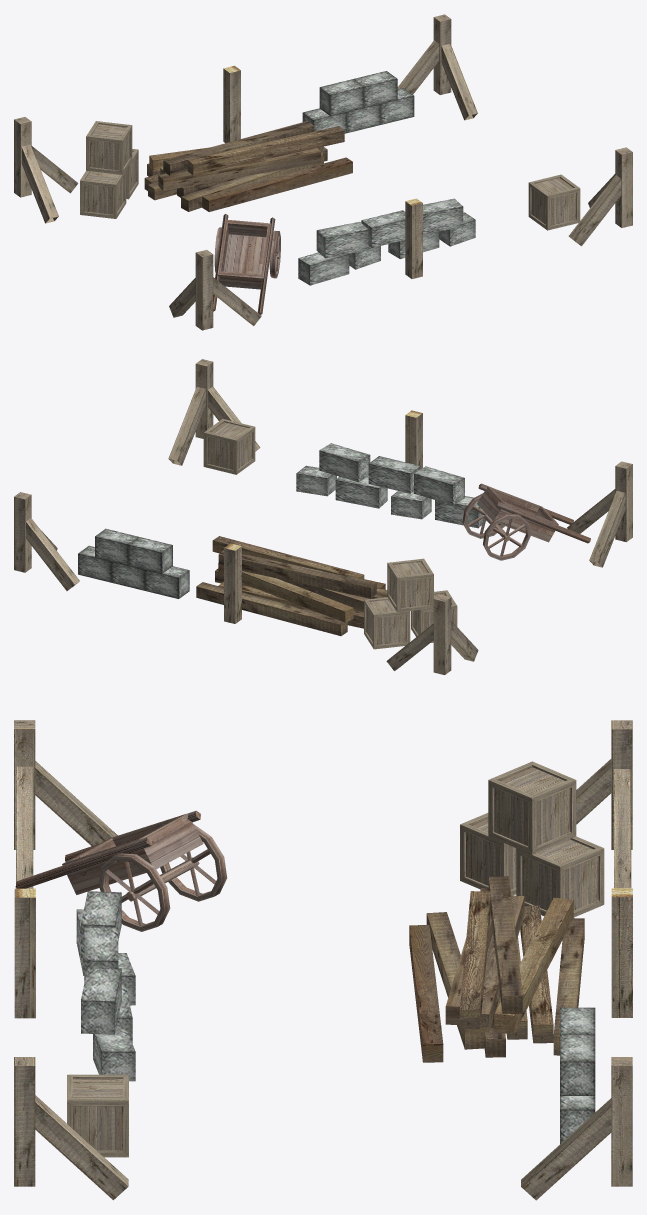
File: fndn_4x3.glb
3 views of the same model, one above another, from view 1: azimuth 30°, elevation 25°; view 2: azimuth 150°, elevation 25°; view 3: azimuth 270°, elevation 25° (orthographic). The views are drawn at different scales.
Parts seen in each view (by area): view 1: fndn_4x3_part20, fndn_4x3_part13, fndn_4x3_part14, fndn_4x3_part3, fndn_4x3_part4, fndn_4x3_part1, fndn_4x3_part2, fndn_4x3_part15, fndn_4x3_part17, fndn_4x3_part18, fndn_4x3_part6, fndn_4x3_part5 (+6 smaller); view 2: fndn_4x3_part20, fndn_4x3_part13, fndn_4x3_part14, fndn_4x3_part1, fndn_4x3_part4, fndn_4x3_part2, fndn_4x3_part3, fndn_4x3_part15, fndn_4x3_part17, fndn_4x3_part19, fndn_4x3_part5, fndn_4x3_part12 (+6 smaller); view 3: fndn_4x3_part20, fndn_4x3_part14, fndn_4x3_part13, fndn_4x3_part17, fndn_4x3_part2, fndn_4x3_part1, fndn_4x3_part3, fndn_4x3_part19, fndn_4x3_part4, fndn_4x3_part15, fndn_4x3_part18, fndn_4x3_part6 (+4 smaller).
Boxes of the visible parts, left/top/right/bottom form: fndn_4x3_part20: left=144, top=121, right=352, bottom=211; fndn_4x3_part13: left=298, top=198, right=475, bottom=285; fndn_4x3_part14: left=213, top=214, right=280, bottom=314; fndn_4x3_part3: left=397, top=14, right=477, bottom=120; fndn_4x3_part4: left=14, top=117, right=78, bottom=223; fndn_4x3_part1: left=169, top=250, right=261, bottom=330; fndn_4x3_part2: left=568, top=147, right=632, bottom=246; fndn_4x3_part15: left=528, top=174, right=580, bottom=230; fndn_4x3_part17: left=86, top=121, right=132, bottom=174; fndn_4x3_part18: left=80, top=169, right=126, bottom=218; fndn_4x3_part6: left=405, top=198, right=422, bottom=278; fndn_4x3_part5: left=223, top=65, right=240, bottom=143; fndn_4x3_part20: left=196, top=536, right=387, bottom=635; fndn_4x3_part13: left=296, top=443, right=486, bottom=528; fndn_4x3_part14: left=462, top=483, right=590, bottom=560; fndn_4x3_part1: left=567, top=461, right=632, bottom=567; fndn_4x3_part4: left=386, top=594, right=478, bottom=674; fndn_4x3_part2: left=168, top=359, right=260, bottom=465; fndn_4x3_part3: left=14, top=492, right=79, bottom=590; fndn_4x3_part15: left=203, top=419, right=255, bottom=474; fndn_4x3_part17: left=387, top=558, right=433, bottom=612; fndn_4x3_part19: left=364, top=597, right=410, bottom=649; fndn_4x3_part5: left=224, top=543, right=241, bottom=623; fndn_4x3_part12: left=128, top=537, right=172, bottom=573; fndn_4x3_part20: left=409, top=876, right=584, bottom=1062; fndn_4x3_part14: left=15, top=810, right=227, bottom=931; fndn_4x3_part13: left=76, top=891, right=135, bottom=1081; fndn_4x3_part17: left=488, top=761, right=576, bottom=854; fndn_4x3_part2: left=14, top=1057, right=128, bottom=1200; fndn_4x3_part1: left=14, top=720, right=117, bottom=888; fndn_4x3_part3: left=521, top=1057, right=632, bottom=1200; fndn_4x3_part19: left=516, top=836, right=604, bottom=917; fndn_4x3_part4: left=576, top=720, right=632, bottom=888; fndn_4x3_part15: left=67, top=1074, right=128, bottom=1157; fndn_4x3_part18: left=460, top=813, right=516, bottom=895; fndn_4x3_part6: left=14, top=888, right=35, bottom=1018.
Bounding box in the file's own units: 3.45 × 0.971 × 2.61.
4 materials, 4 textured.
